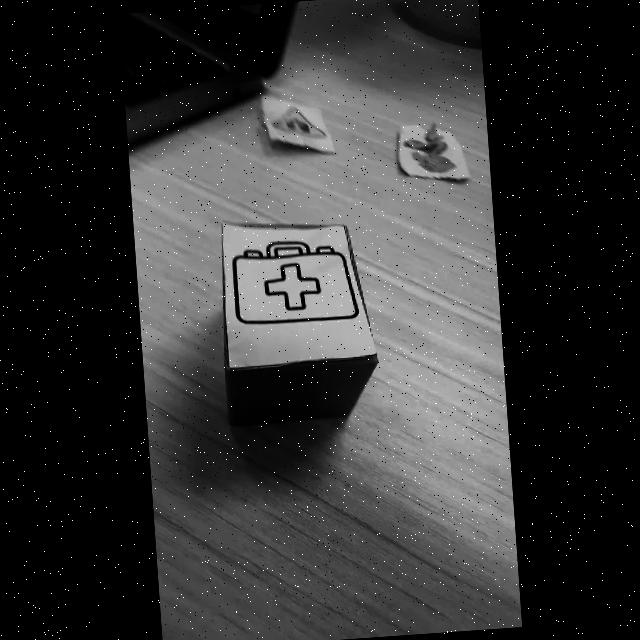Medkit: (232, 241, 358, 325)
